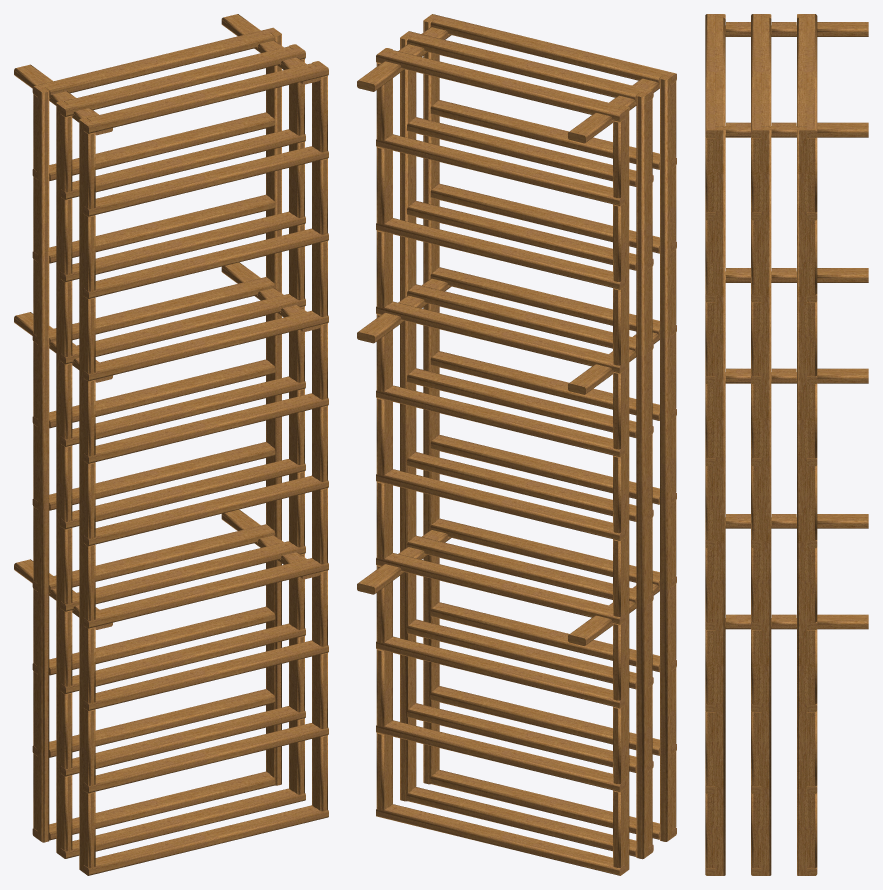
The model's file is VCKB0080.glb.
The picture shows the model from 3 angles, left to right: view 1: azimuth 30°, elevation 25°; view 2: azimuth 150°, elevation 25°; view 3: azimuth 270°, elevation 25°; orthographic projection. The views are drawn at different scales.
Visible parts, largest first — view 1: G-Difference.020; view 2: G-Difference.020; view 3: G-Difference.020.
Boxes of the visible parts, x1,y1,x2,y2 form: G-Difference.020: (14, 14, 328, 875); G-Difference.020: (357, 14, 676, 875); G-Difference.020: (705, 14, 868, 875).
Size of the model in its own units: 0.406 by 1.21 by 0.241.
2 materials, 2 textured.
